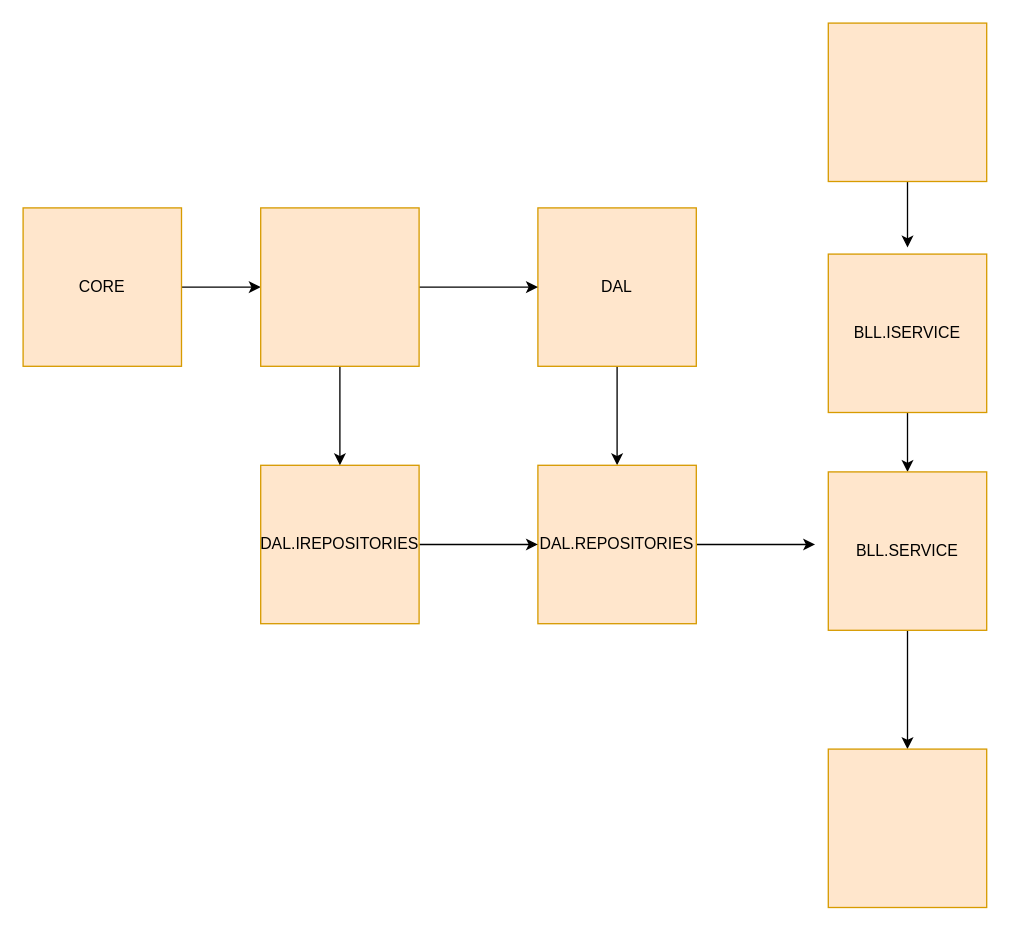
Some shapes in this 1010 by 931 pixel diagram are drawn without their labels. Each missing label, with the centre of its shape:
"ENTITIES" belongs at (339,286).
"UI" belongs at (907,828).
"VIEW" belongs at (907,102).
